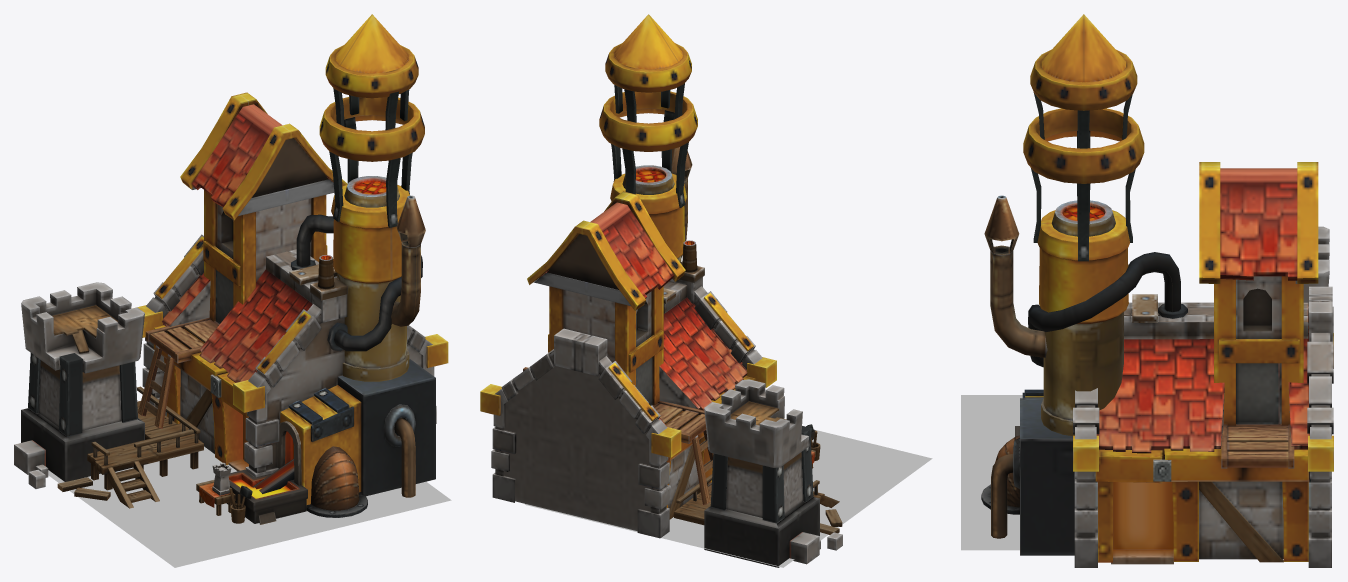
Rendered from C_DirtyWorkshop_LV5.fbx.
3 renders of one model, left to right at view 1: azimuth 30°, elevation 25°; view 2: azimuth 150°, elevation 25°; view 3: azimuth 270°, elevation 25°, orthographic. The views are drawn at different scales.
Parts seen in each view (by area): view 1: Dirty_Workshop_LV05_0_mesh, Dirty_Workshop_LV05_1_mesh; view 2: Dirty_Workshop_LV05_0_mesh, Dirty_Workshop_LV05_1_mesh; view 3: Dirty_Workshop_LV05_0_mesh, Dirty_Workshop_LV05_1_mesh.
Boxes of the visible parts, bbox=[...] form: Dirty_Workshop_LV05_0_mesh: bbox=[14, 14, 448, 524]; Dirty_Workshop_LV05_1_mesh: bbox=[48, 446, 451, 567]; Dirty_Workshop_LV05_0_mesh: bbox=[480, 14, 842, 567]; Dirty_Workshop_LV05_1_mesh: bbox=[525, 430, 932, 567]; Dirty_Workshop_LV05_0_mesh: bbox=[981, 14, 1333, 567]; Dirty_Workshop_LV05_1_mesh: bbox=[961, 395, 1022, 550].
Size of the model in its own units: 149 by 189 by 122.
